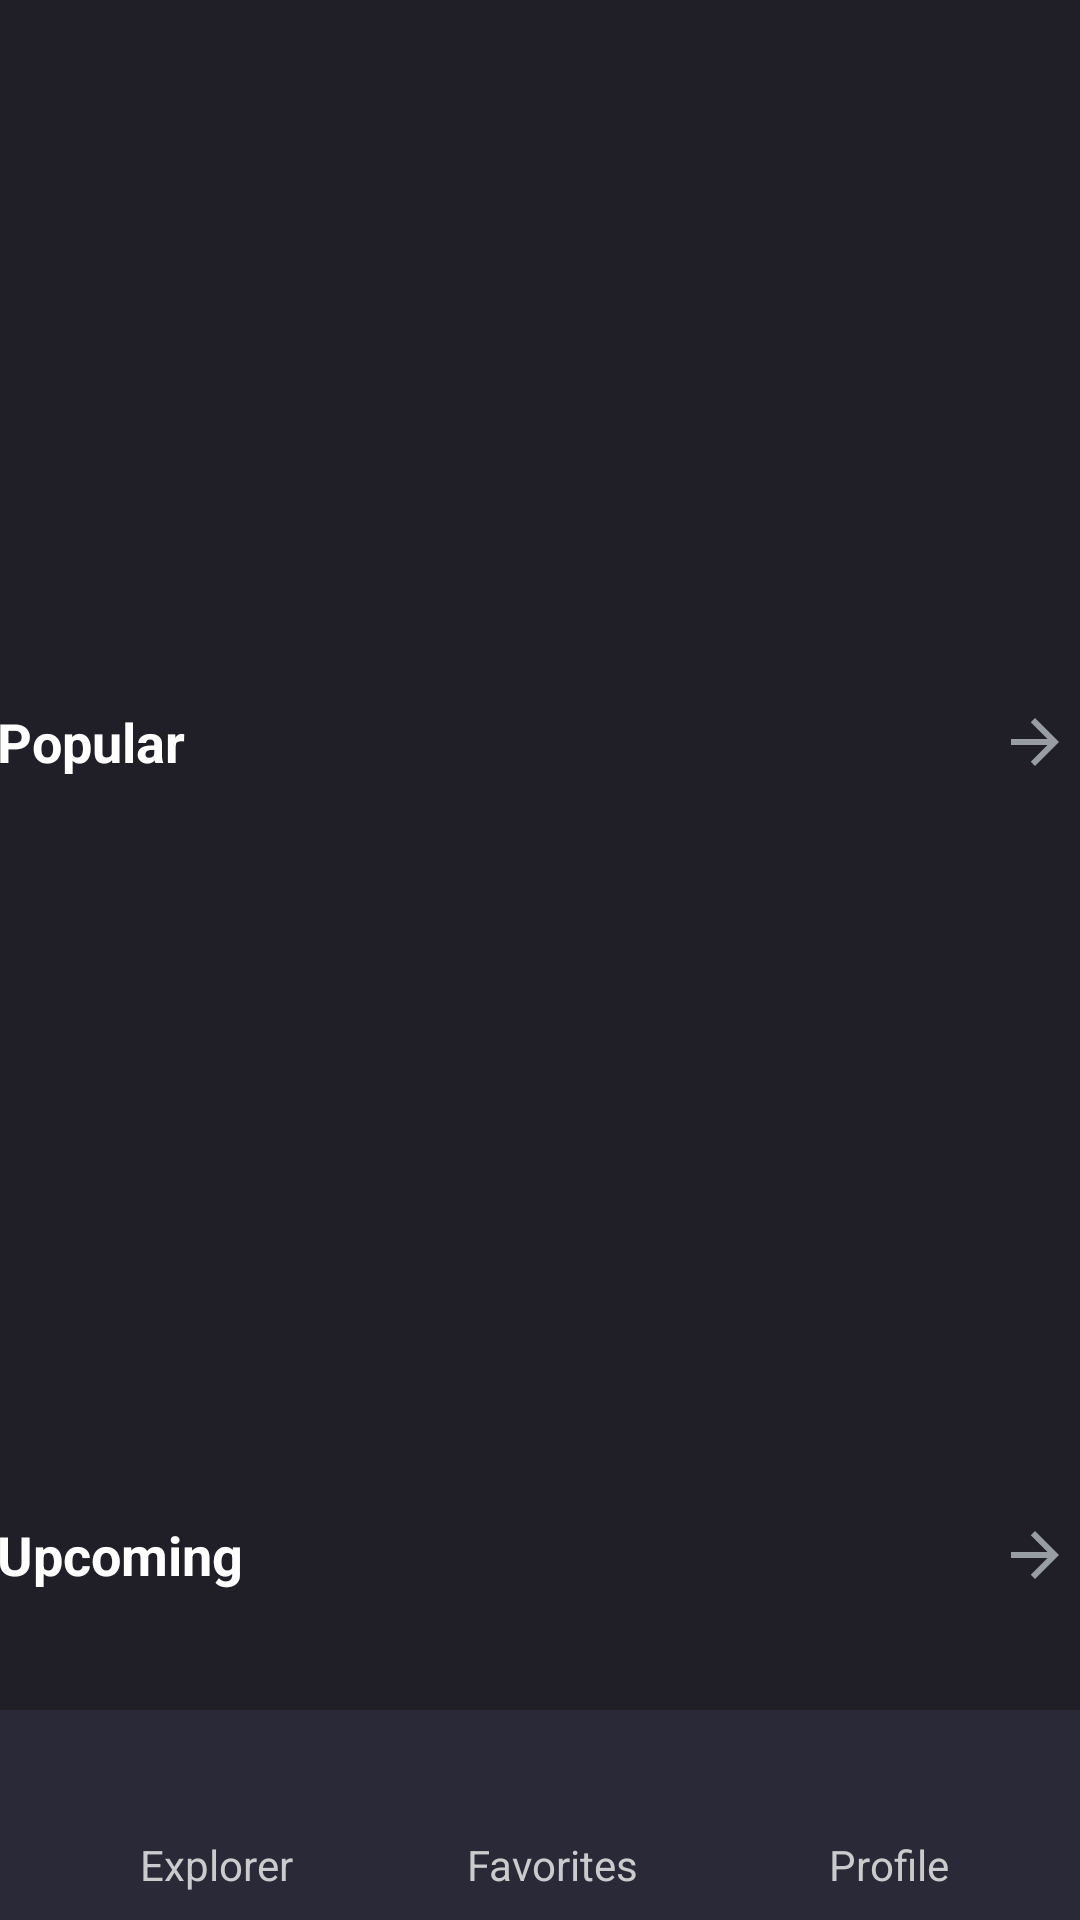

Named icons in this screenshot (1080x1920) and their centers, (x=x, y=y):
forward arrow: (x=1035, y=742), (x=1035, y=1555)
